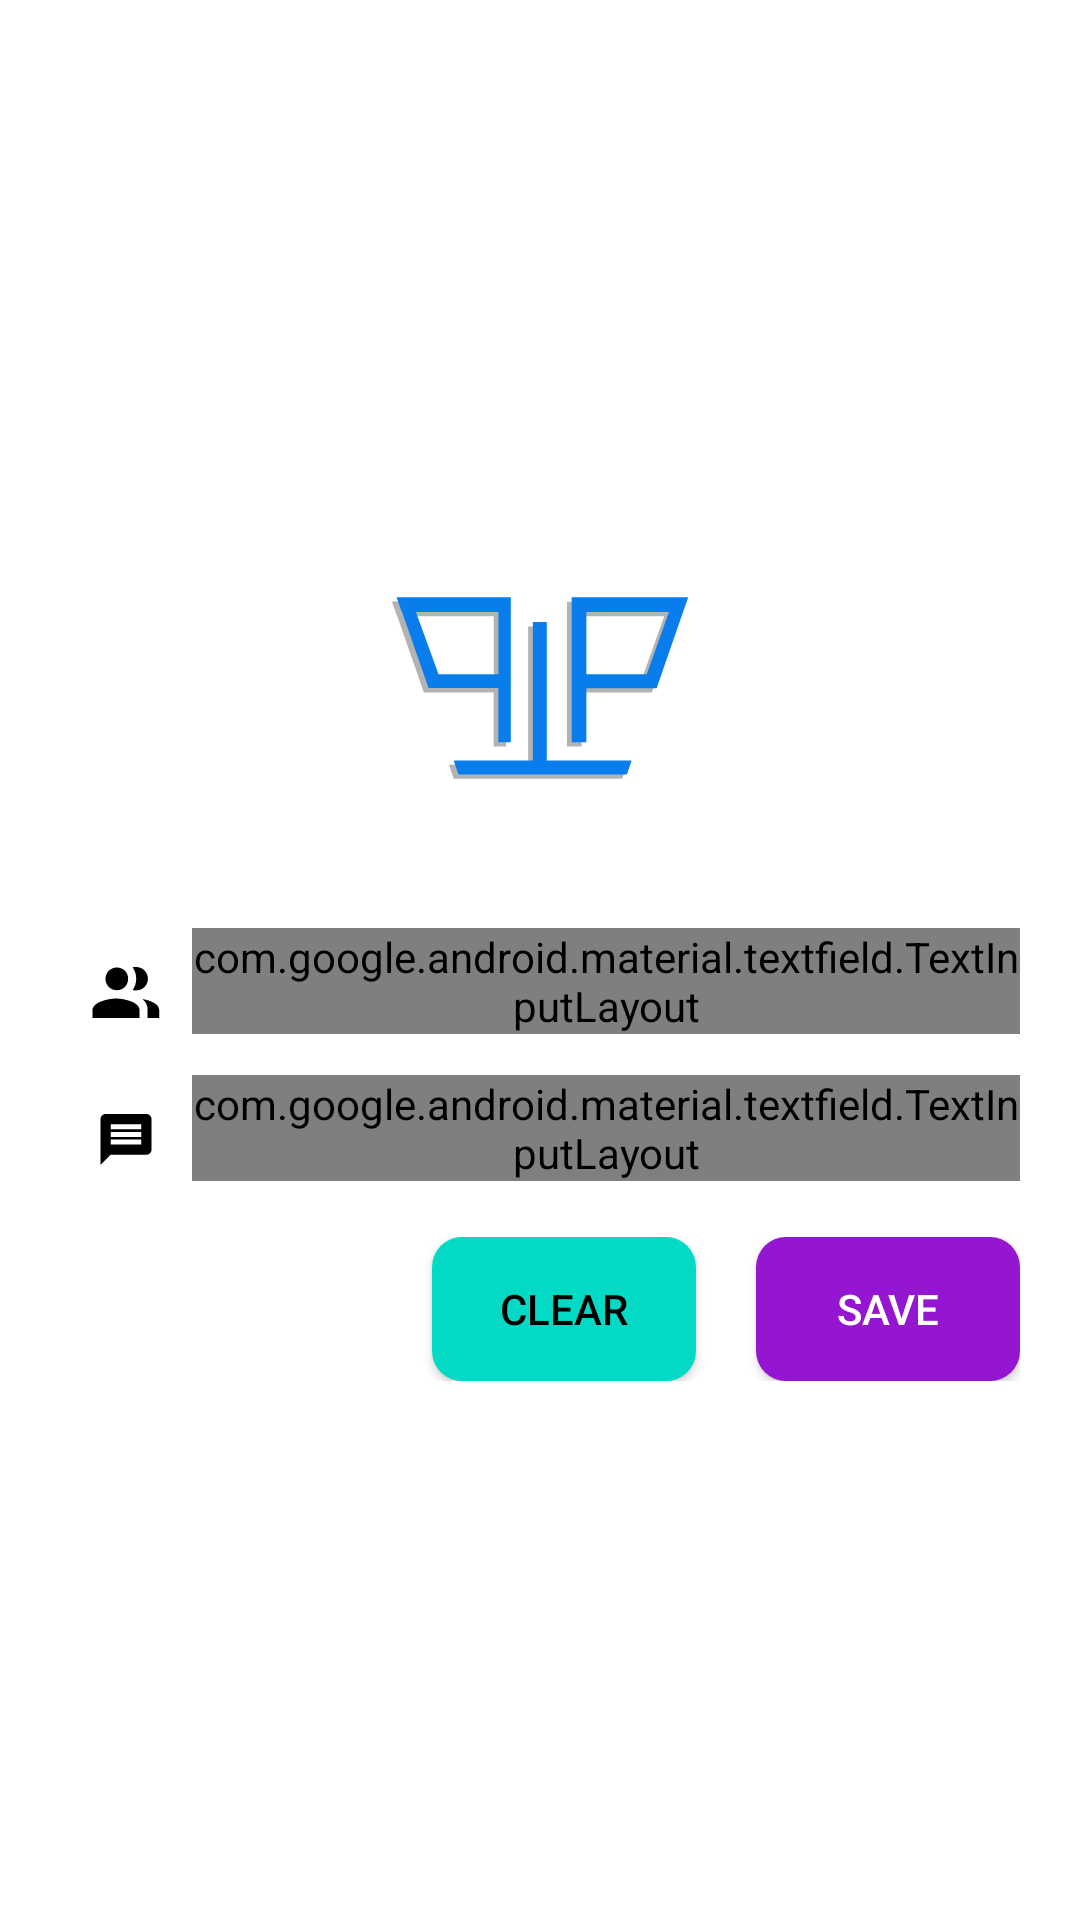

Where to tap for icons on this 1080x1920 app screen, as point (x, y):
contacts: point (126, 992)
